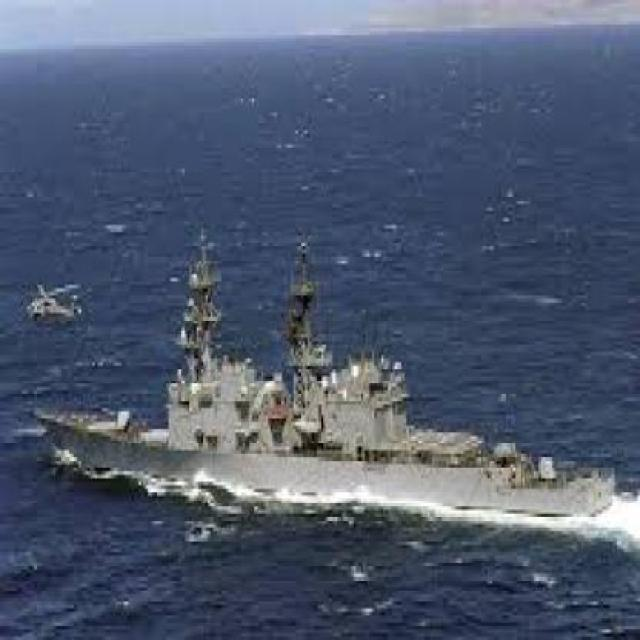warship2: (31, 261, 625, 564)
